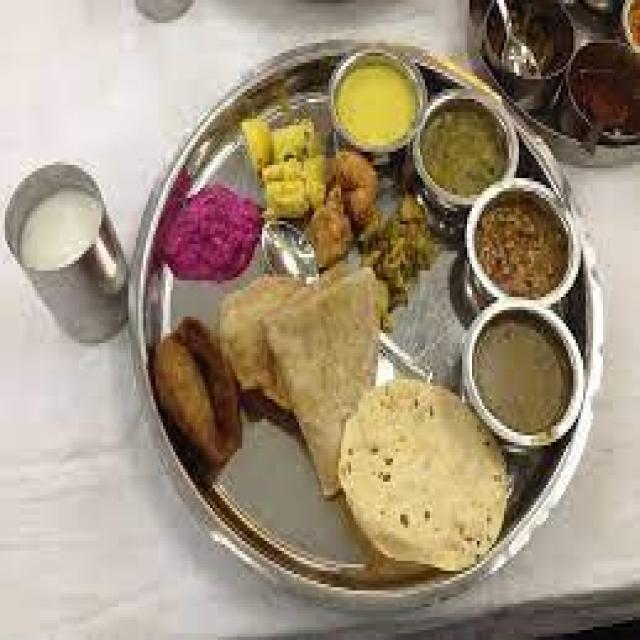dal: (340, 379, 498, 573), (147, 319, 240, 462), (417, 102, 519, 200), (332, 53, 429, 156)
papad: (213, 262, 392, 414)
sambar-rasam: (464, 305, 580, 435)
sweet: (462, 307, 585, 431), (462, 183, 584, 307), (561, 52, 640, 147)
veg-fry: (458, 183, 585, 310)
